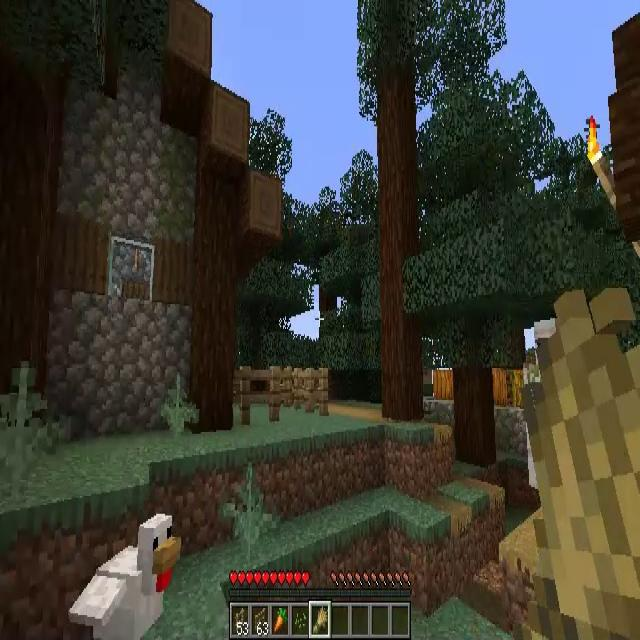duck: (74, 512, 180, 640)
